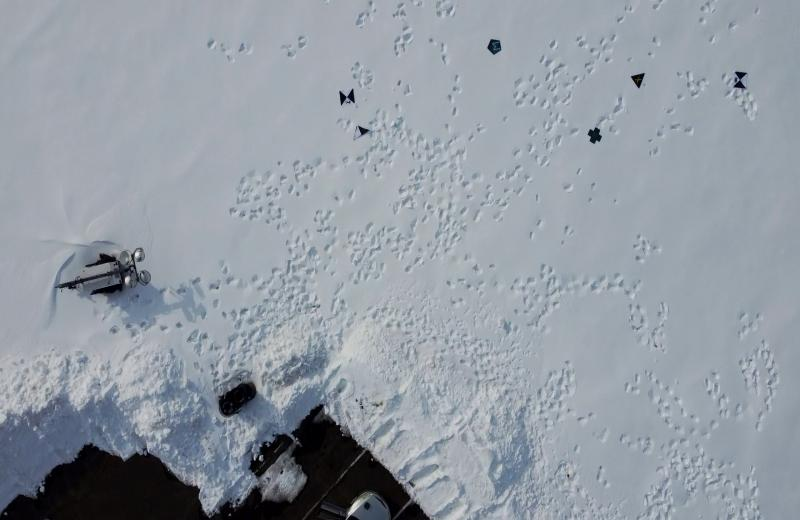Cross: (585, 126, 604, 145)
Pentagon: (487, 37, 502, 55)
Triangle: (629, 72, 646, 89)
